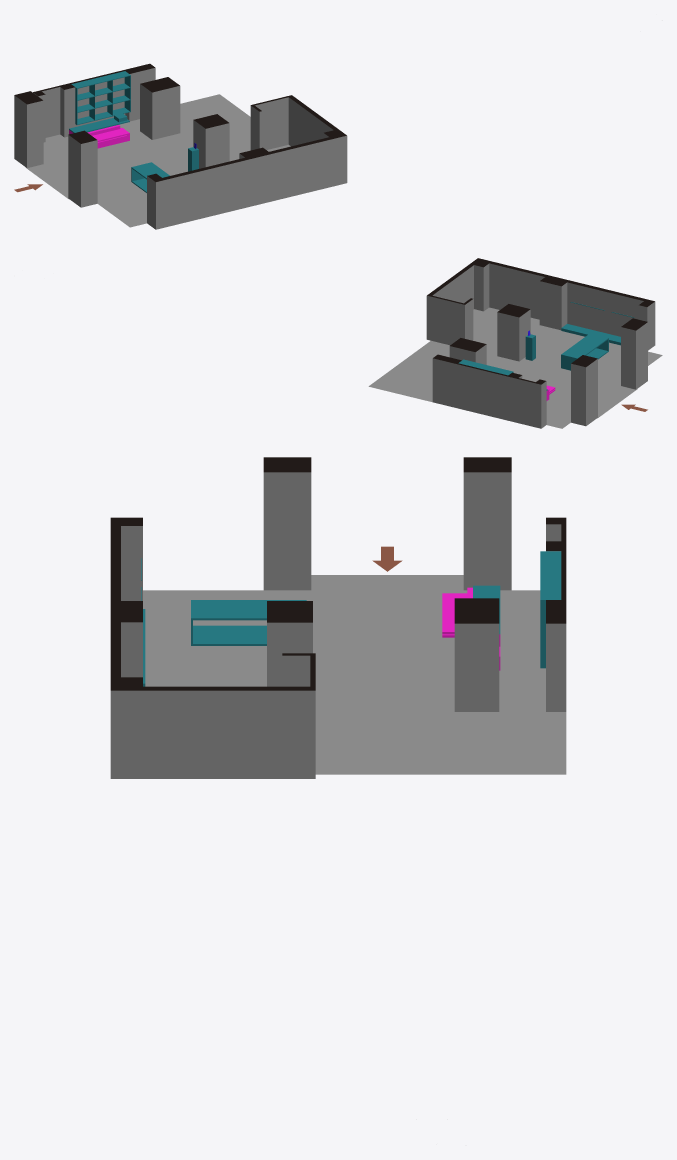
Rendered from Zegna_Milano_ModelRef 3.FBX.
3 renders of one model, top to bottom at view 1: azimuth 30°, elevation 25°; view 2: azimuth 150°, elevation 25°; view 3: azimuth 270°, elevation 25°, orthographic. The views are drawn at different scales.
Parts seen in each view (by area): view 1: boxmodel, Colonne ingresso, Scaffale molto di design, SLG Table, Concept Table; view 2: boxmodel, Colonne ingresso, Concept Table, Mensola molto di design, Scaffale molto di design, Totem; view 3: boxmodel, Colonne ingresso, Concept Table, Scaffale molto di design, SLG Table.
Part boxes in pixels (x1,y1,x2,y2): boxmodel: (25, 63, 347, 229); Colonne ingresso: (14, 91, 97, 207); Scaffale molto di design: (71, 71, 130, 124); SLG Table: (69, 113, 129, 148); Concept Table: (131, 162, 169, 192); boxmodel: (368, 258, 662, 428); Colonne ingresso: (571, 318, 647, 426); Concept Table: (561, 333, 608, 370); Mensola molto di design: (561, 324, 620, 345); Scaffale molto di design: (458, 359, 513, 375); Totem: (525, 334, 535, 360); boxmodel: (110, 517, 566, 778); Colonne ingresso: (263, 457, 511, 590); Concept Table: (191, 600, 306, 645); Scaffale molto di design: (540, 551, 561, 668); SLG Table: (442, 585, 500, 670).
Bounding box in the file's own units: 3261 × 301 × 1050.
